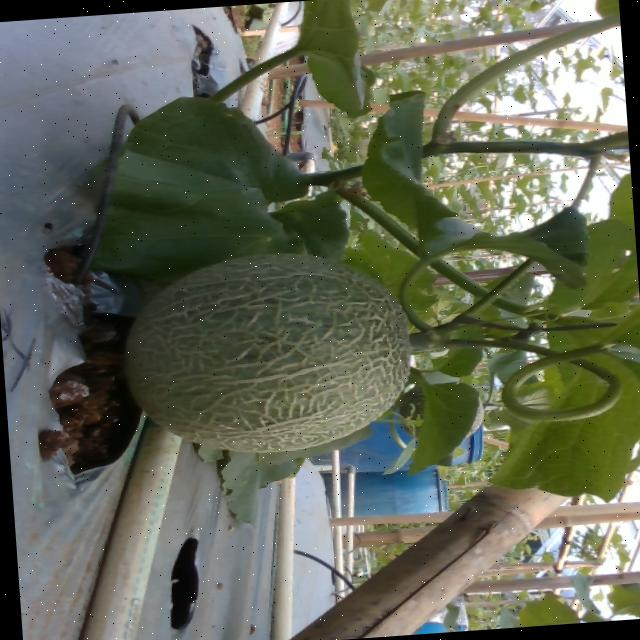melon: (124, 254, 408, 453)
